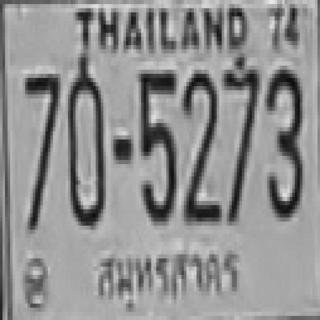N00: (67, 64, 105, 224)
N02: (181, 70, 217, 222)
N03: (265, 66, 302, 217)
N05: (137, 68, 175, 219)
N07: (23, 72, 58, 228), (223, 66, 258, 222), (223, 66, 258, 197), (23, 72, 58, 179)
P58: (94, 244, 245, 315)
